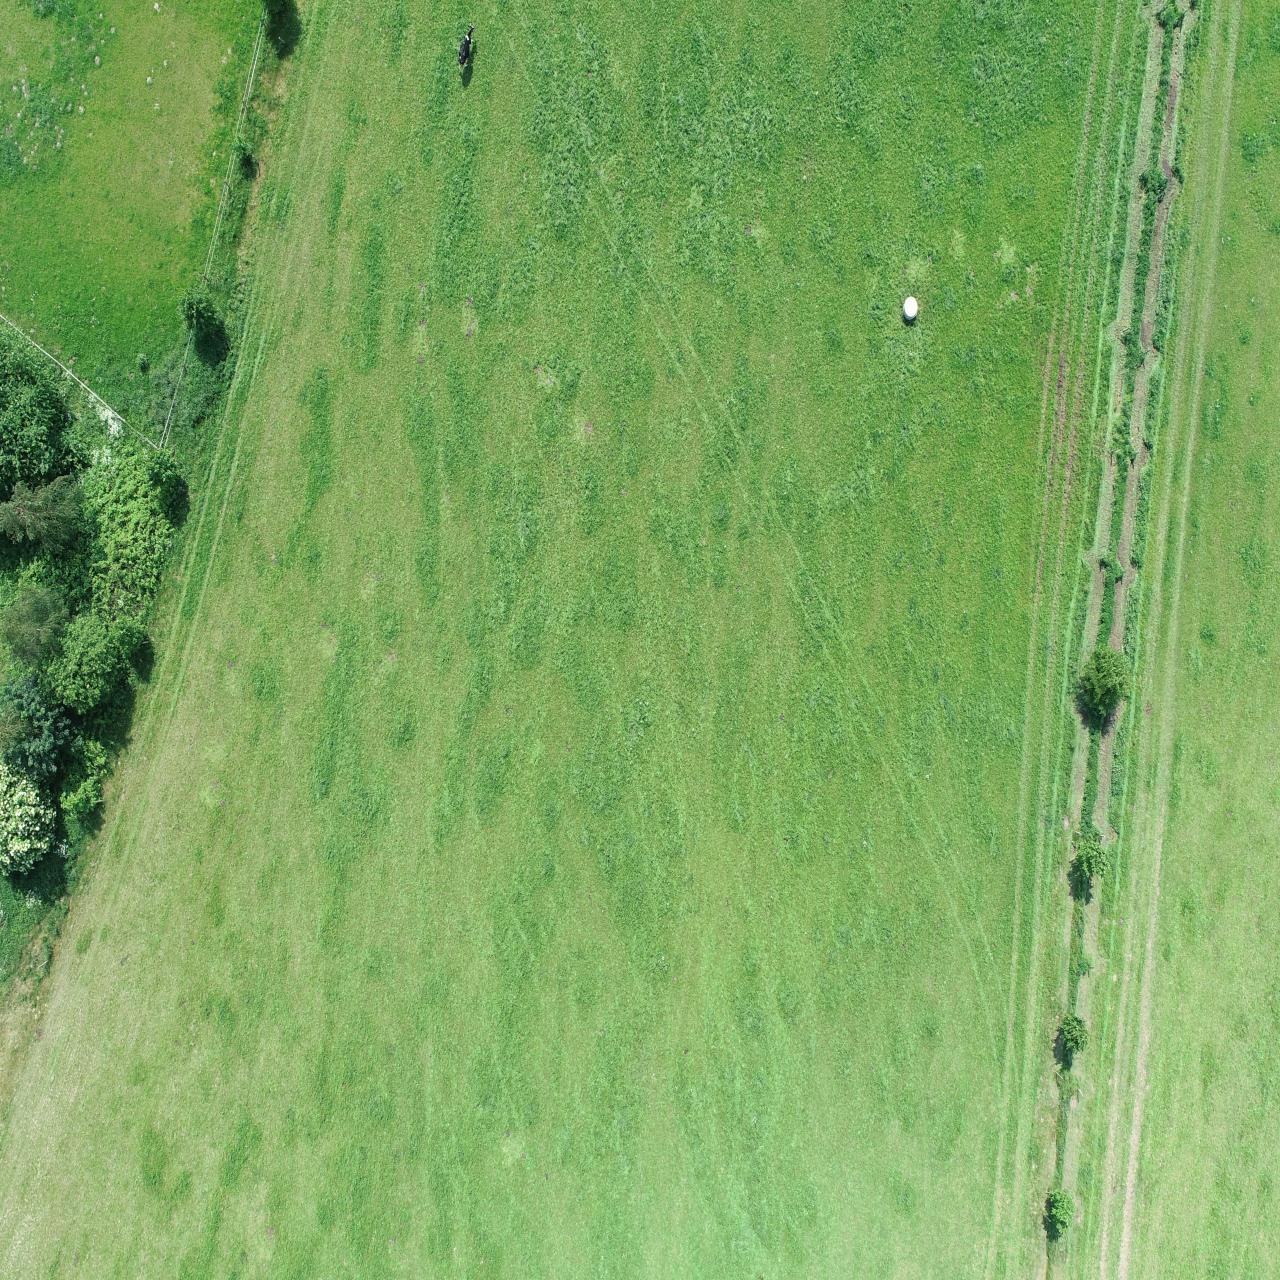cow: (454, 20, 478, 80)
